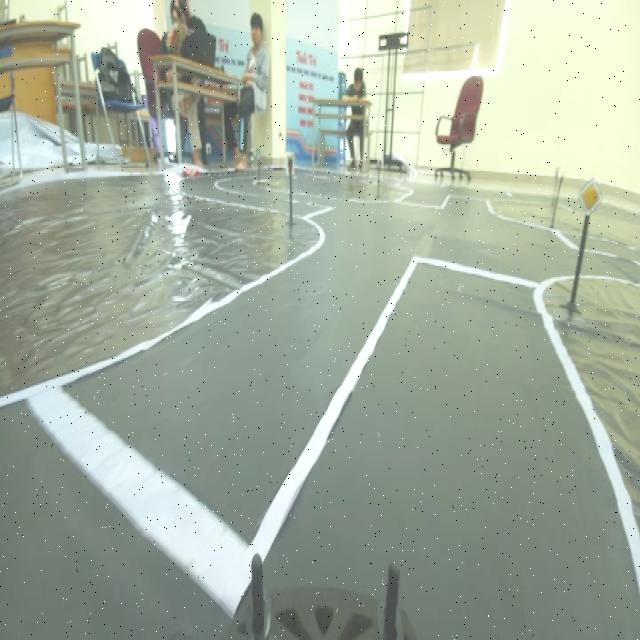priority: (572, 172, 606, 219)
